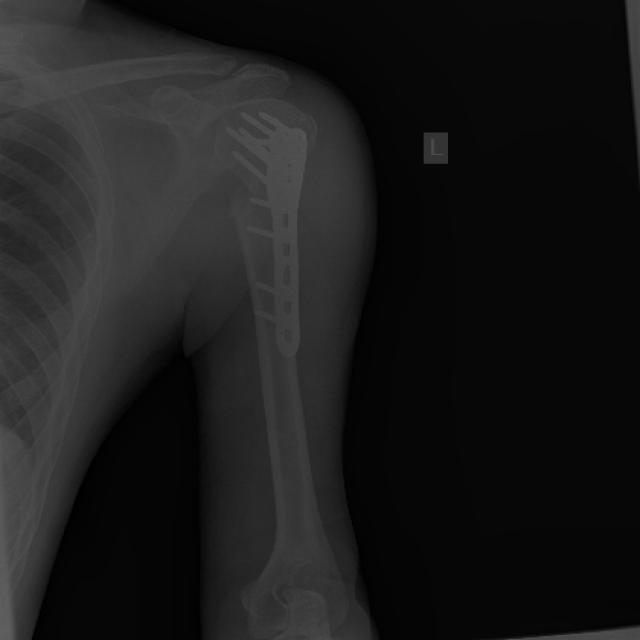humerus fracture: (223, 183, 271, 248)
